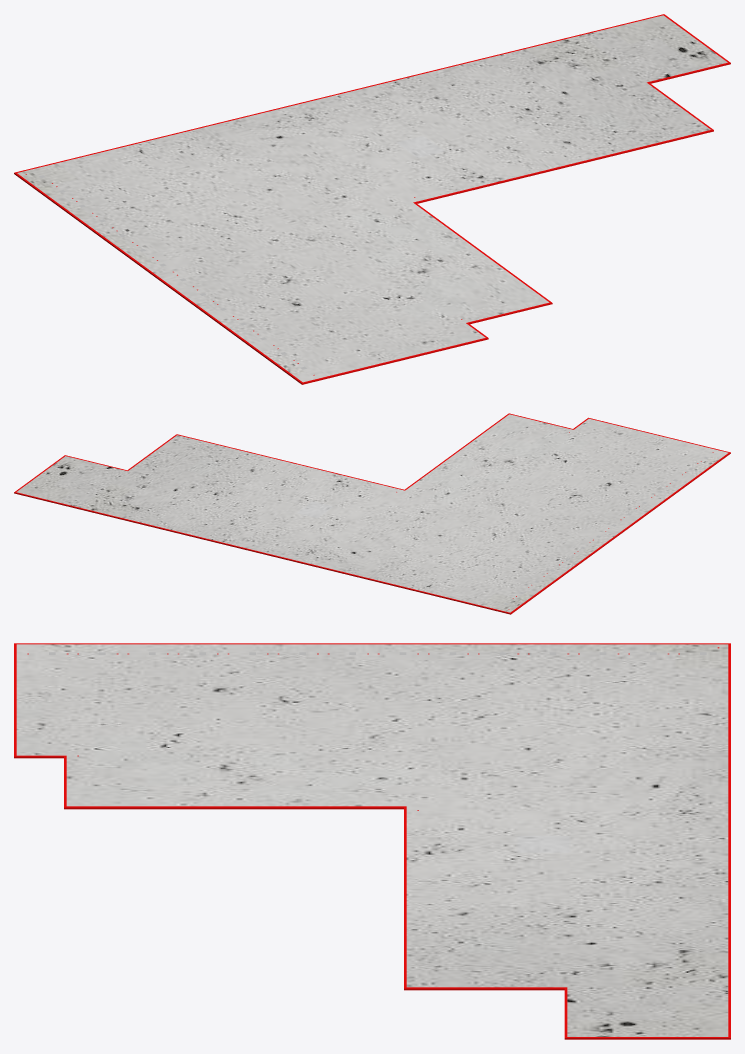
The model's file is floorplan.dae.
The picture shows the model from 3 angles, top to bottom: view 1: azimuth 30°, elevation 25°; view 2: azimuth 150°, elevation 25°; view 3: azimuth 270°, elevation 25°; orthographic projection. The views are drawn at different scales.
Parts seen in each view (by area): view 1: warehouse.001, warehouse.002; view 2: warehouse.001, warehouse.002; view 3: warehouse.001, warehouse.002.
Boxes of the visible parts, bbox=[...] form: warehouse.001: bbox=[17, 15, 727, 382]; warehouse.002: bbox=[14, 14, 730, 384]; warehouse.001: bbox=[16, 414, 728, 612]; warehouse.002: bbox=[14, 413, 730, 614]; warehouse.001: bbox=[16, 644, 728, 1036]; warehouse.002: bbox=[14, 643, 730, 1039].
Size of the model in its own units: 105 by 80.9 by 0.2.
